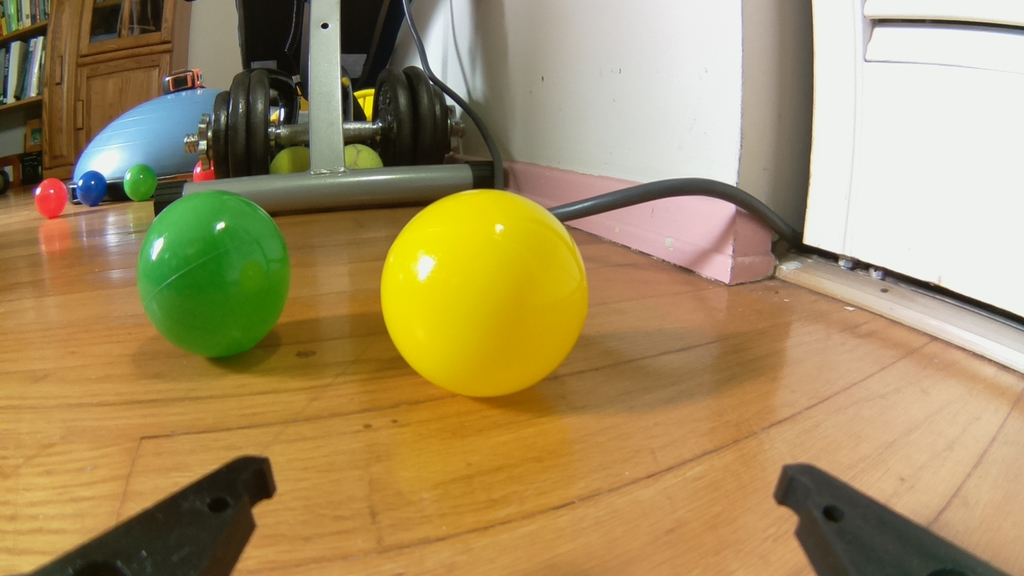ball: (121, 164, 158, 202)
